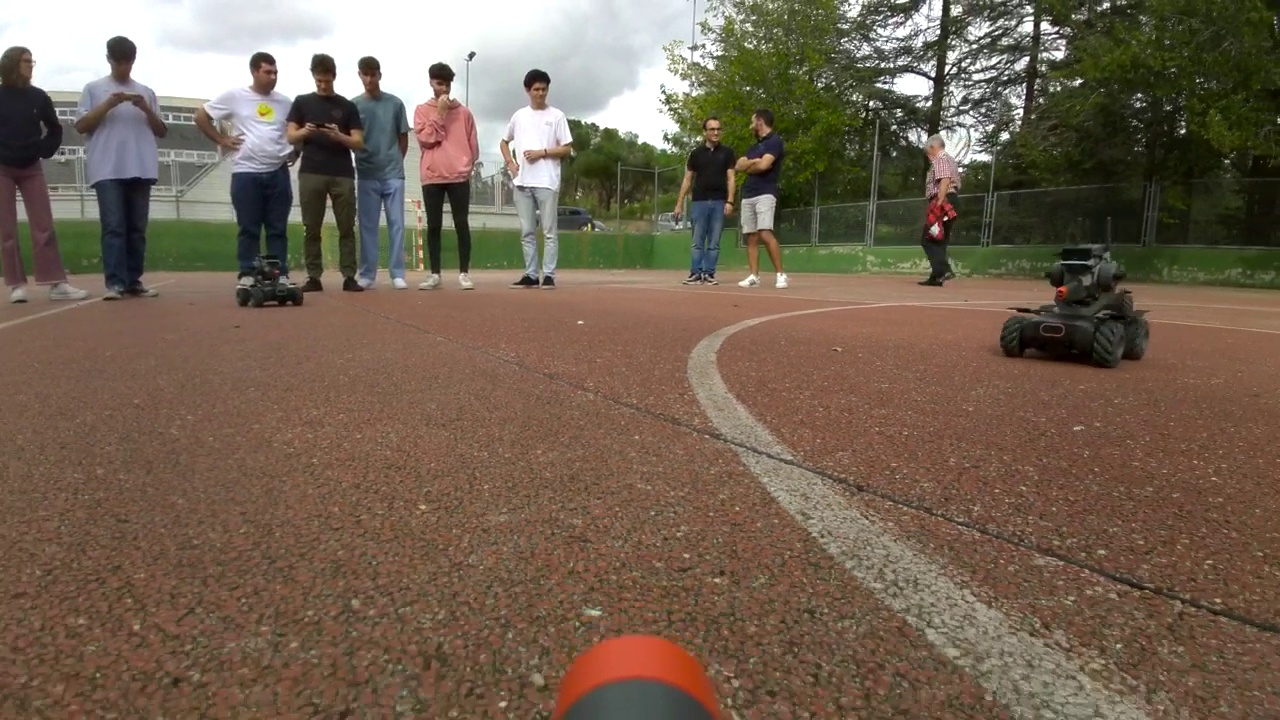robot: (1004, 245, 1150, 369), (237, 255, 301, 309)
